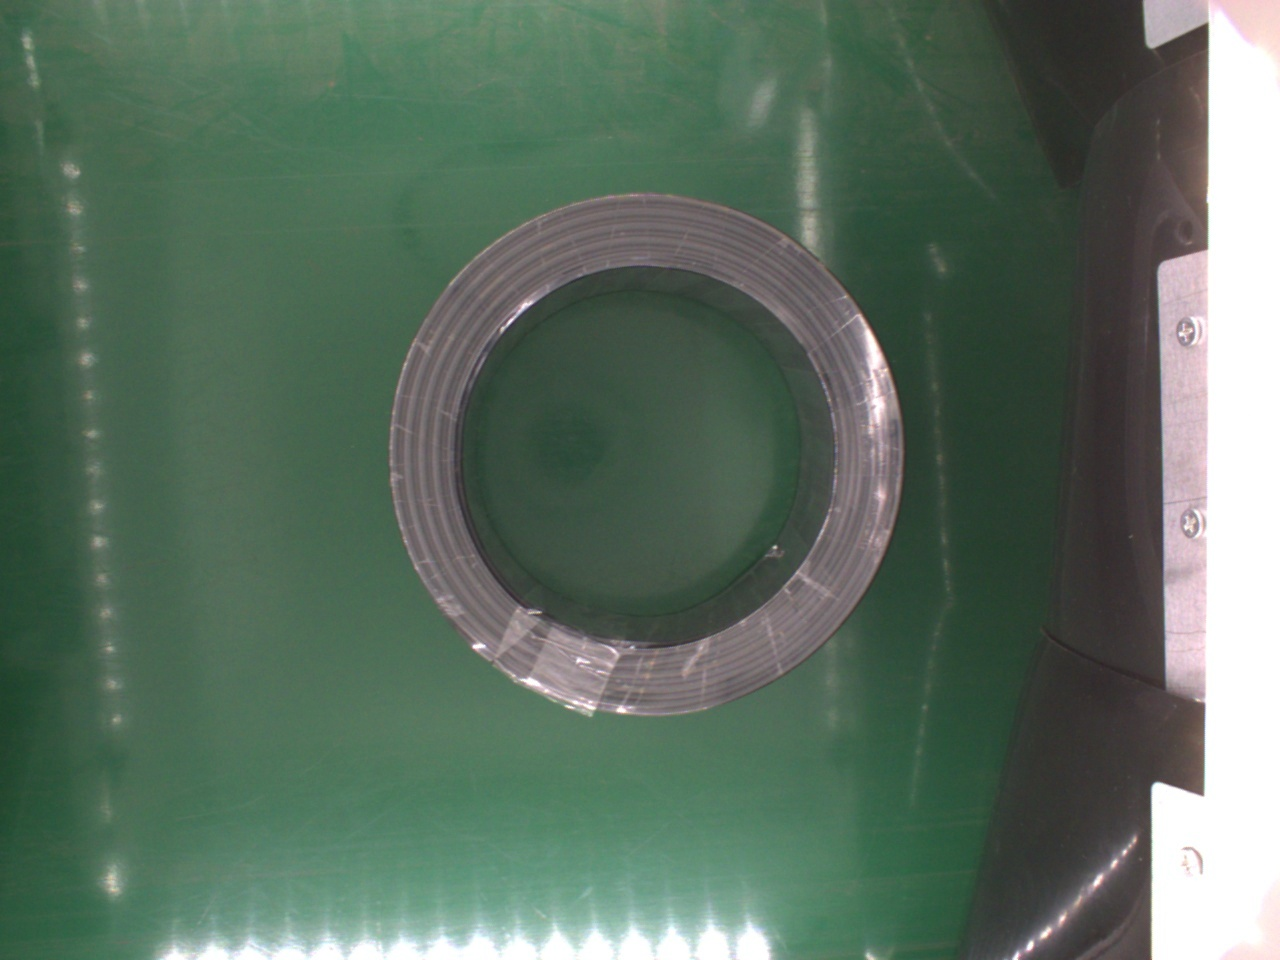black: (384, 191, 905, 718)
